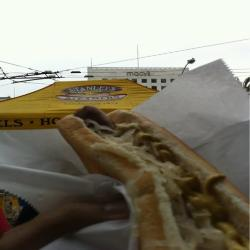hotdog: (56, 103, 250, 249)
